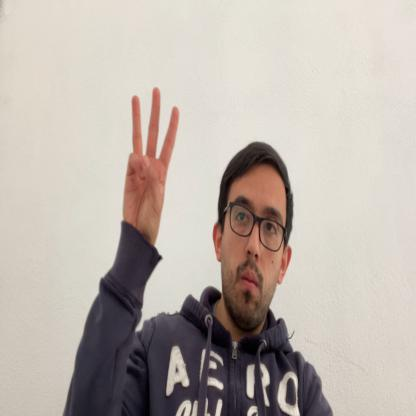W: (123, 88, 179, 236)
